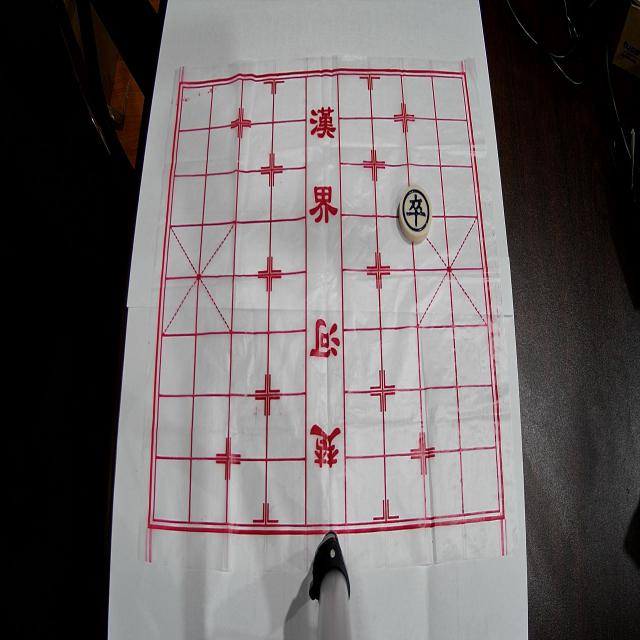black-soldier: (399, 185, 432, 244)
